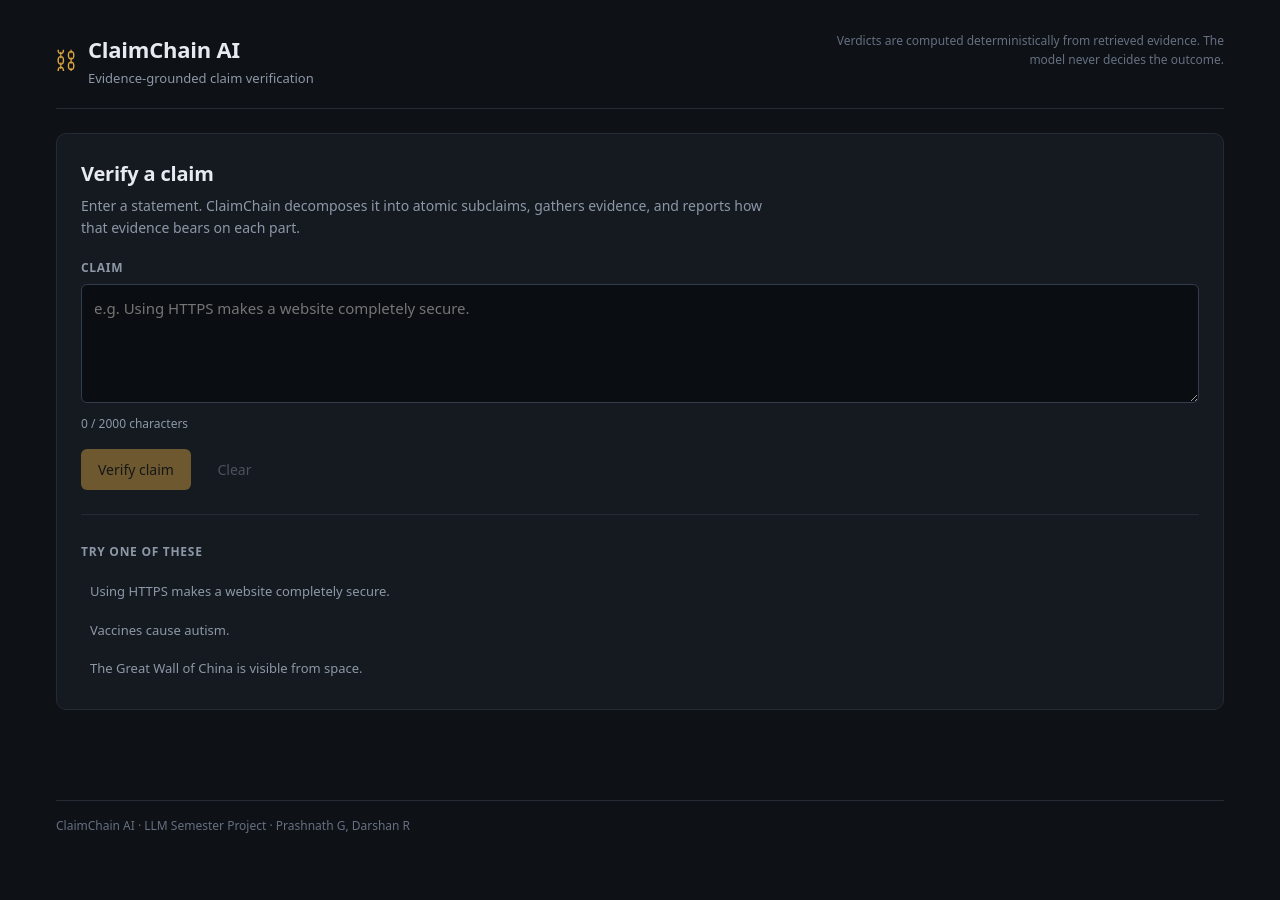
Scenario: App › does not fabricate a report when a stage fails
This screenshot has width=1280, height=900.
Type "Using HTTPS makes a website completely secure." into the text box at (640, 343), box [81,284,1199,403]
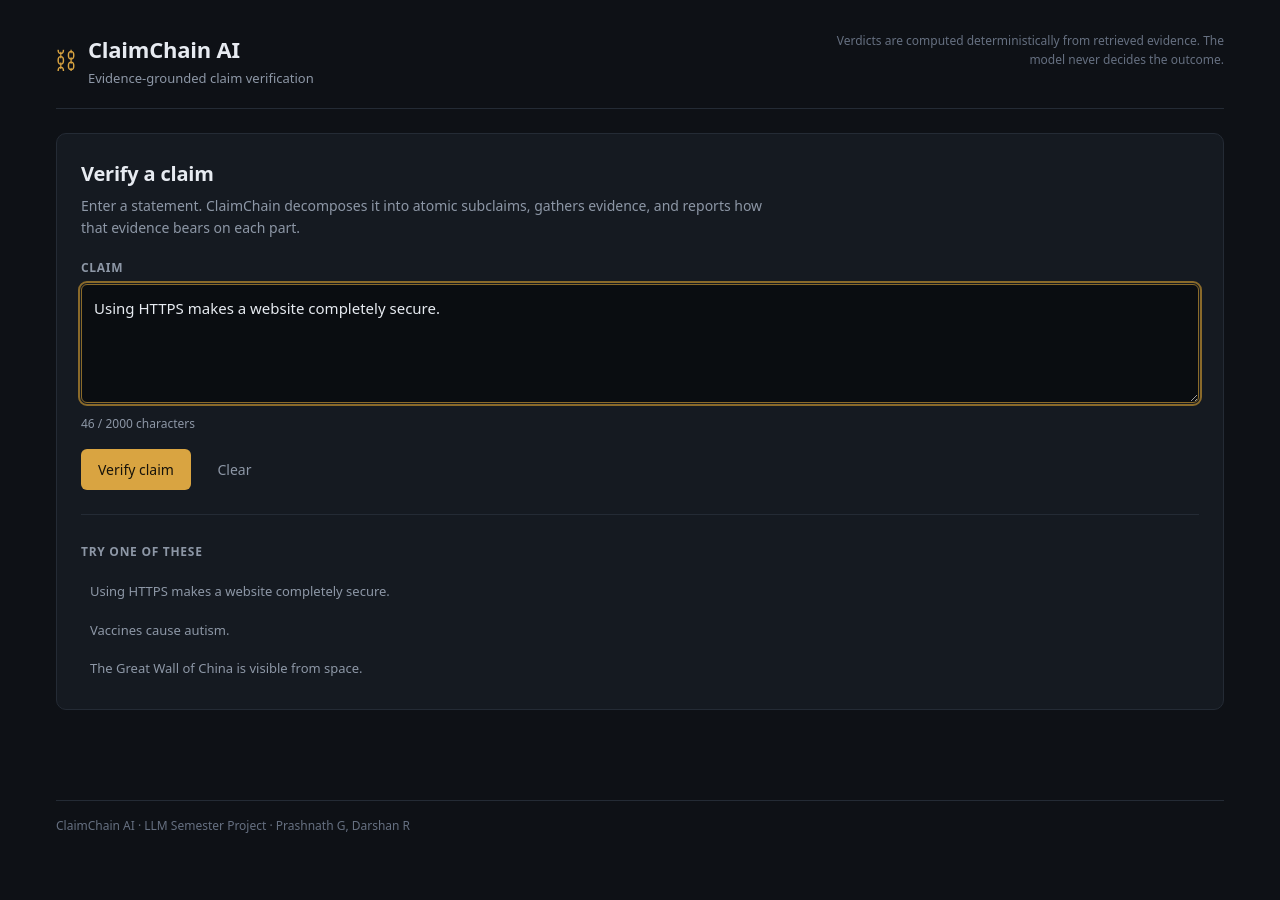
Click the button "Verify claim" at (136, 470), box [81,449,191,490]
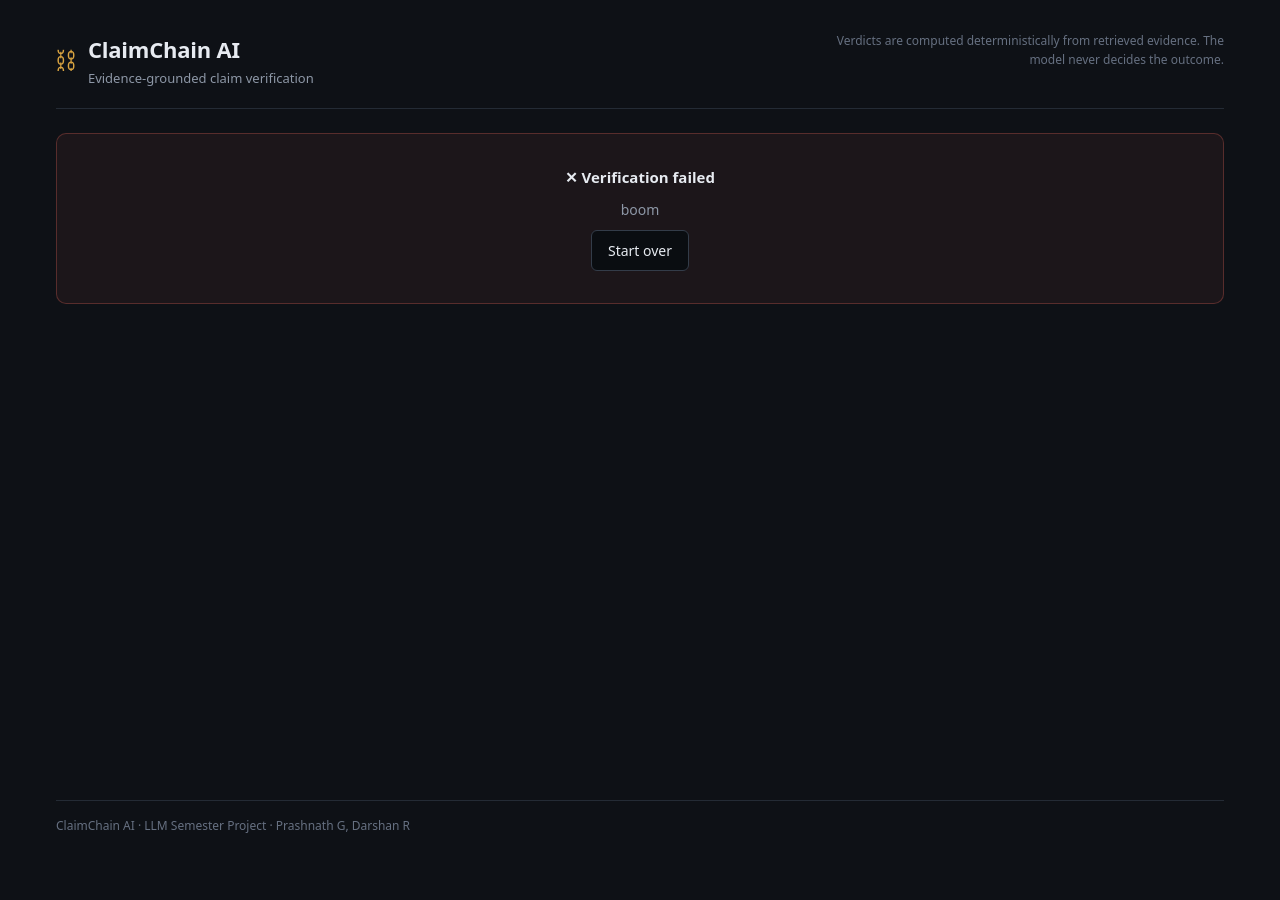
Expected: the text "✕ Verification failed" is shown, [565,166,715,189]
